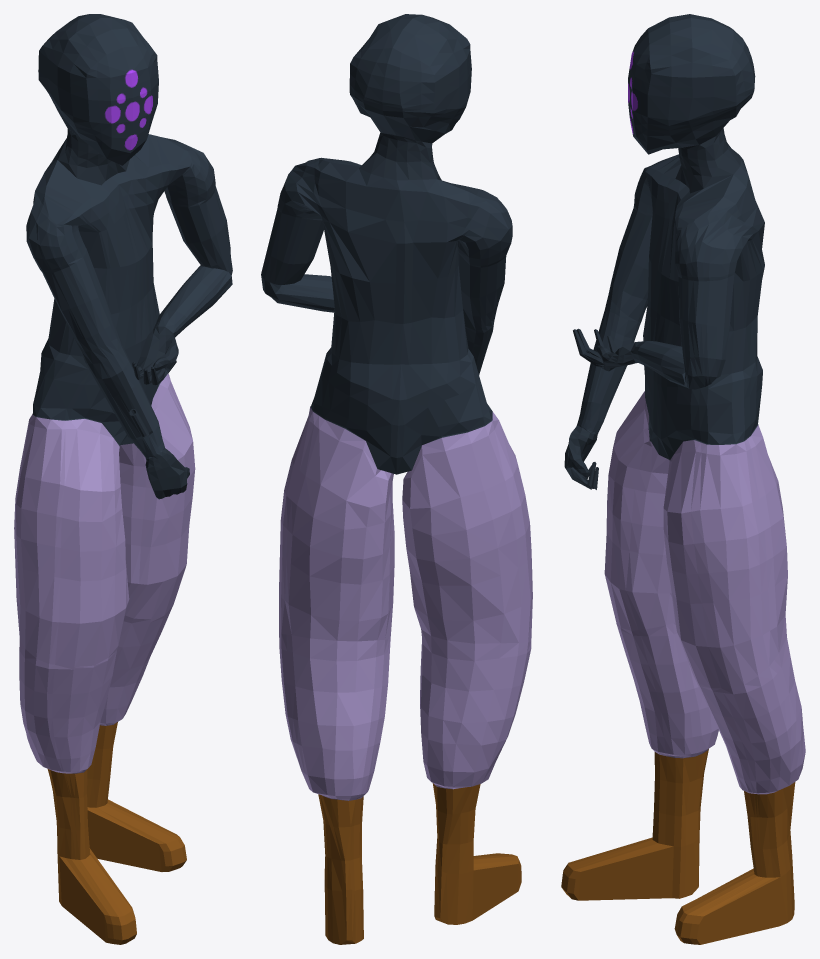
Rendered from Oracle_Reload_000021.obj.
3 views of the same model, side by side, from view 1: azimuth 30°, elevation 25°; view 2: azimuth 150°, elevation 25°; view 3: azimuth 270°, elevation 25° (orthographic). The views are drawn at different scales.
Parts seen in each view (by area): view 1: Cube; view 2: Cube; view 3: Cube.
Part boxes in pixels (<box>): Cube: <box>14,14,232,944</box>; Cube: <box>261,14,532,944</box>; Cube: <box>561,14,805,944</box>.
Size of the model in its own units: 1.09 by 3.94 by 0.9762.
